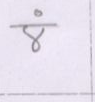anusvara: (34, 10, 42, 17)
